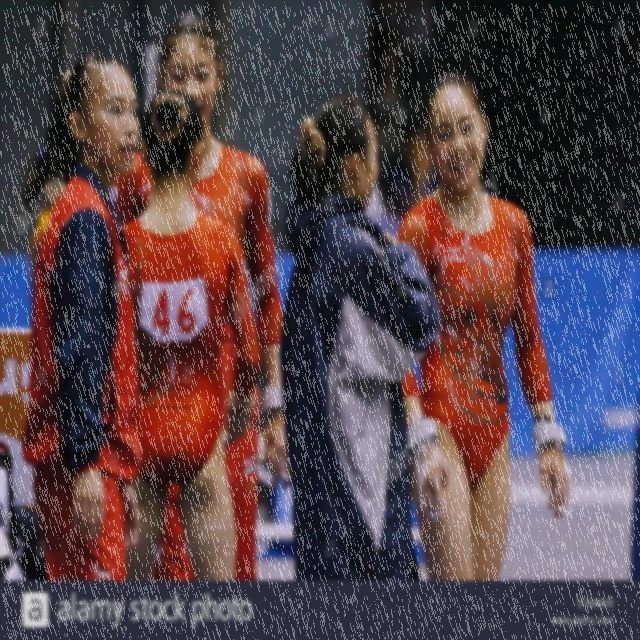pessoa: (112, 7, 294, 584), (393, 70, 574, 582), (276, 94, 442, 584), (120, 88, 262, 582), (21, 49, 142, 584)
